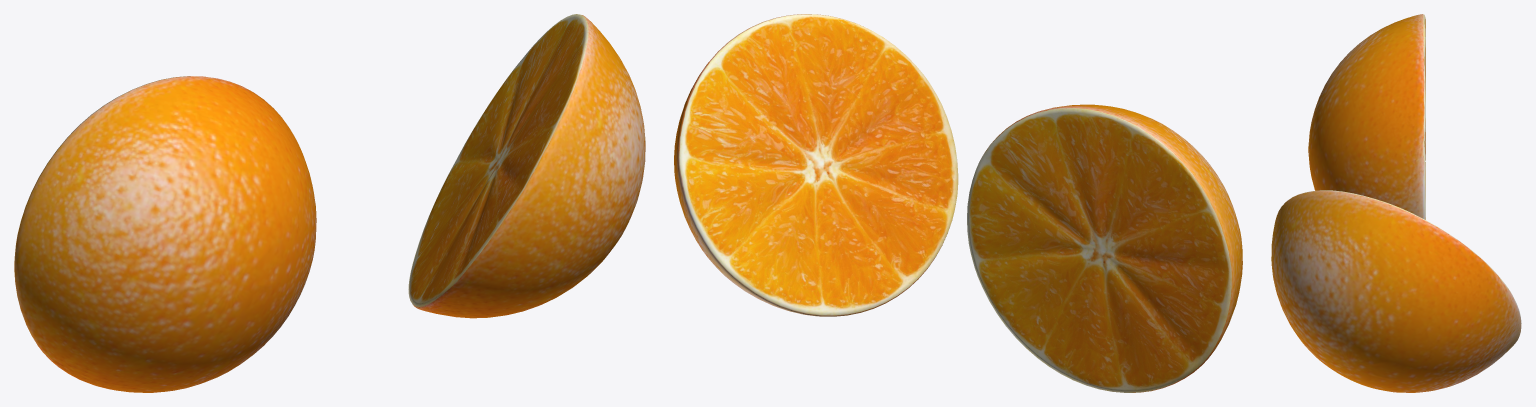
The model's file is oranges.fbx.
3 renders of one model, left to right at view 1: azimuth 30°, elevation 25°; view 2: azimuth 150°, elevation 25°; view 3: azimuth 270°, elevation 25°, orthographic. The views are drawn at different scales.
Parts seen in each view (by area): view 1: Orange, Orange.001; view 2: Orange.001, Orange; view 3: Orange.001, Orange.
Part boxes in pixels (x1,y1,x2,y2): Orange: (14, 76, 316, 392); Orange.001: (408, 14, 645, 318); Orange.001: (674, 14, 958, 316); Orange: (967, 104, 1242, 392); Orange.001: (1271, 190, 1521, 392); Orange: (1308, 14, 1425, 219).
Size of the model in its own units: 480 by 234 by 216.
